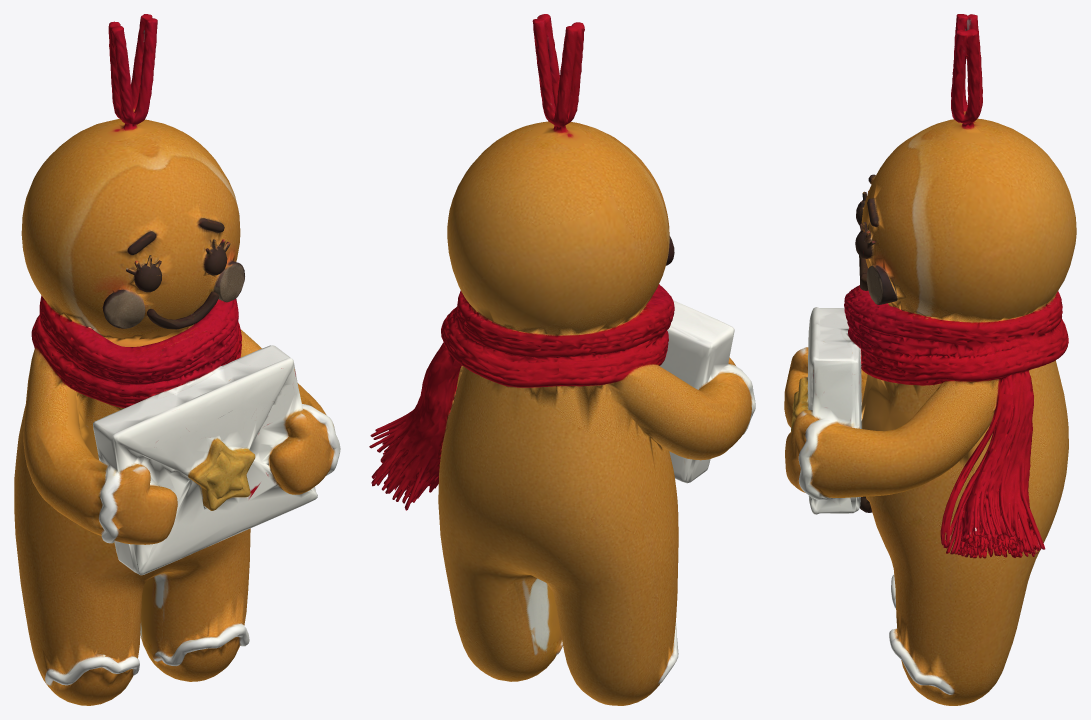
File: offer.glb
3 views of the same model, side by side, from view 1: azimuth 30°, elevation 25°; view 2: azimuth 150°, elevation 25°; view 3: azimuth 270°, elevation 25° (orthographic). The views are drawn at different scales.
Size of the model in its own units: 0.9059 by 1.9 by 0.7691.
Materials: 1 (1 with a texture image).
